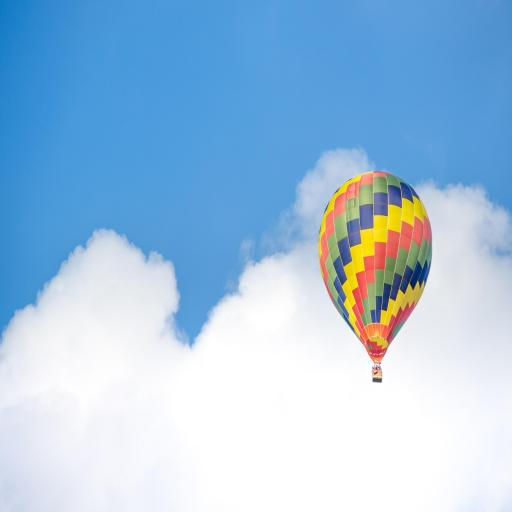hot air ballon: (318, 171, 432, 384)
